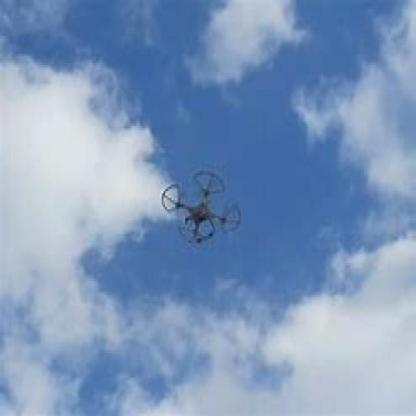drone: (158, 158, 250, 252)
